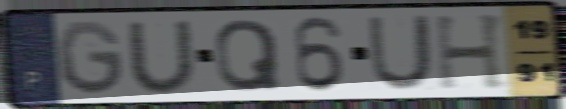6: (290, 15, 348, 95)
G: (54, 18, 128, 98)
H: (430, 12, 509, 92)
Q: (213, 17, 285, 95)
U: (123, 18, 201, 96), (365, 13, 435, 93)
